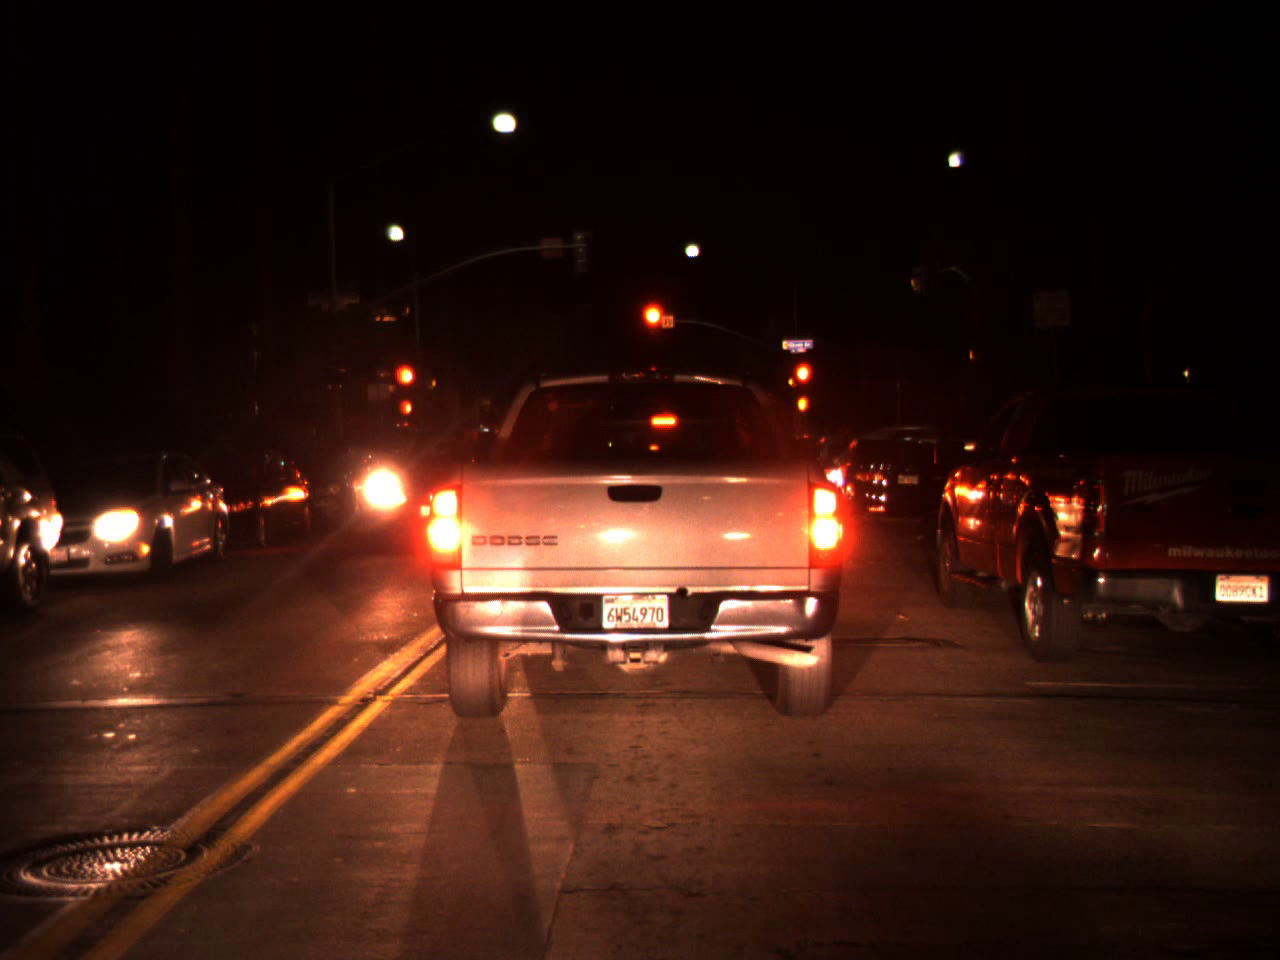stop: (641, 301, 671, 354), (392, 361, 417, 412), (792, 360, 813, 405)
